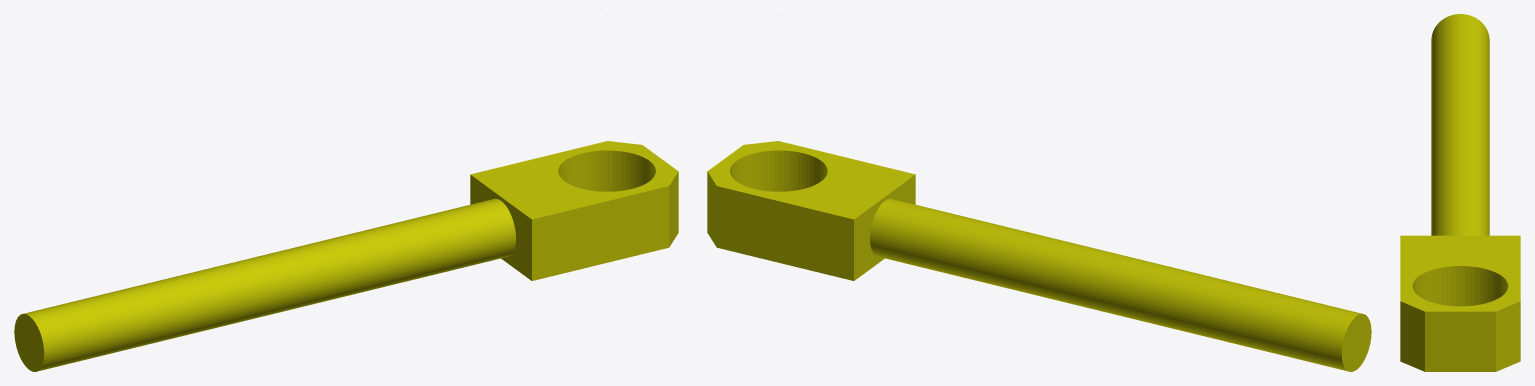
3 views of the same model, side by side, from view 1: azimuth 30°, elevation 25°; view 2: azimuth 150°, elevation 25°; view 3: azimuth 270°, elevation 25° (orthographic). The views are drawn at different scales.
Visible parts, largest first — view 1: node; view 2: node; view 3: node.
Part boxes in pixels (left/top/right/bottom): node: left=14, top=14, right=678, bottom=371; node: left=707, top=14, right=1371, bottom=371; node: left=1400, top=14, right=1520, bottom=371.
Size of the model in its own units: 858 by 284 by 145.
